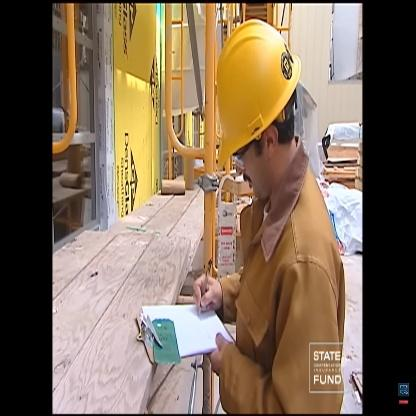helmet: (202, 11, 313, 196)
